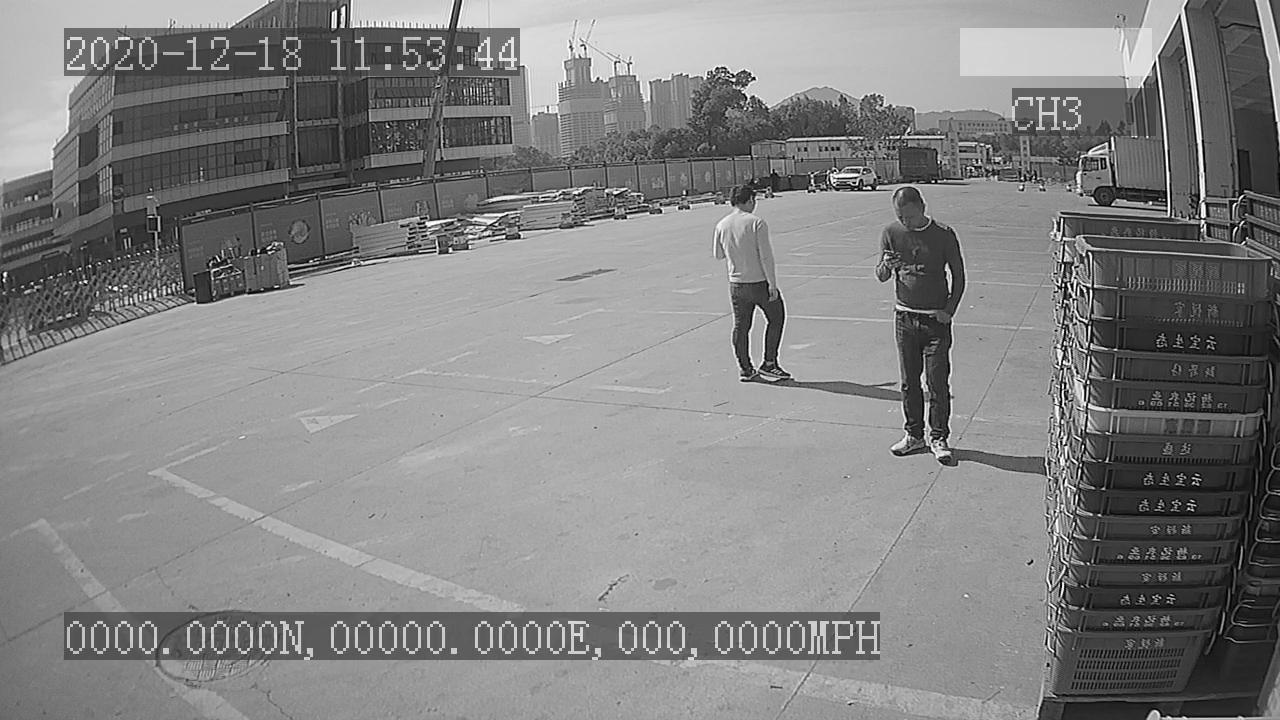person: (865, 181, 974, 467), (706, 179, 799, 392)
